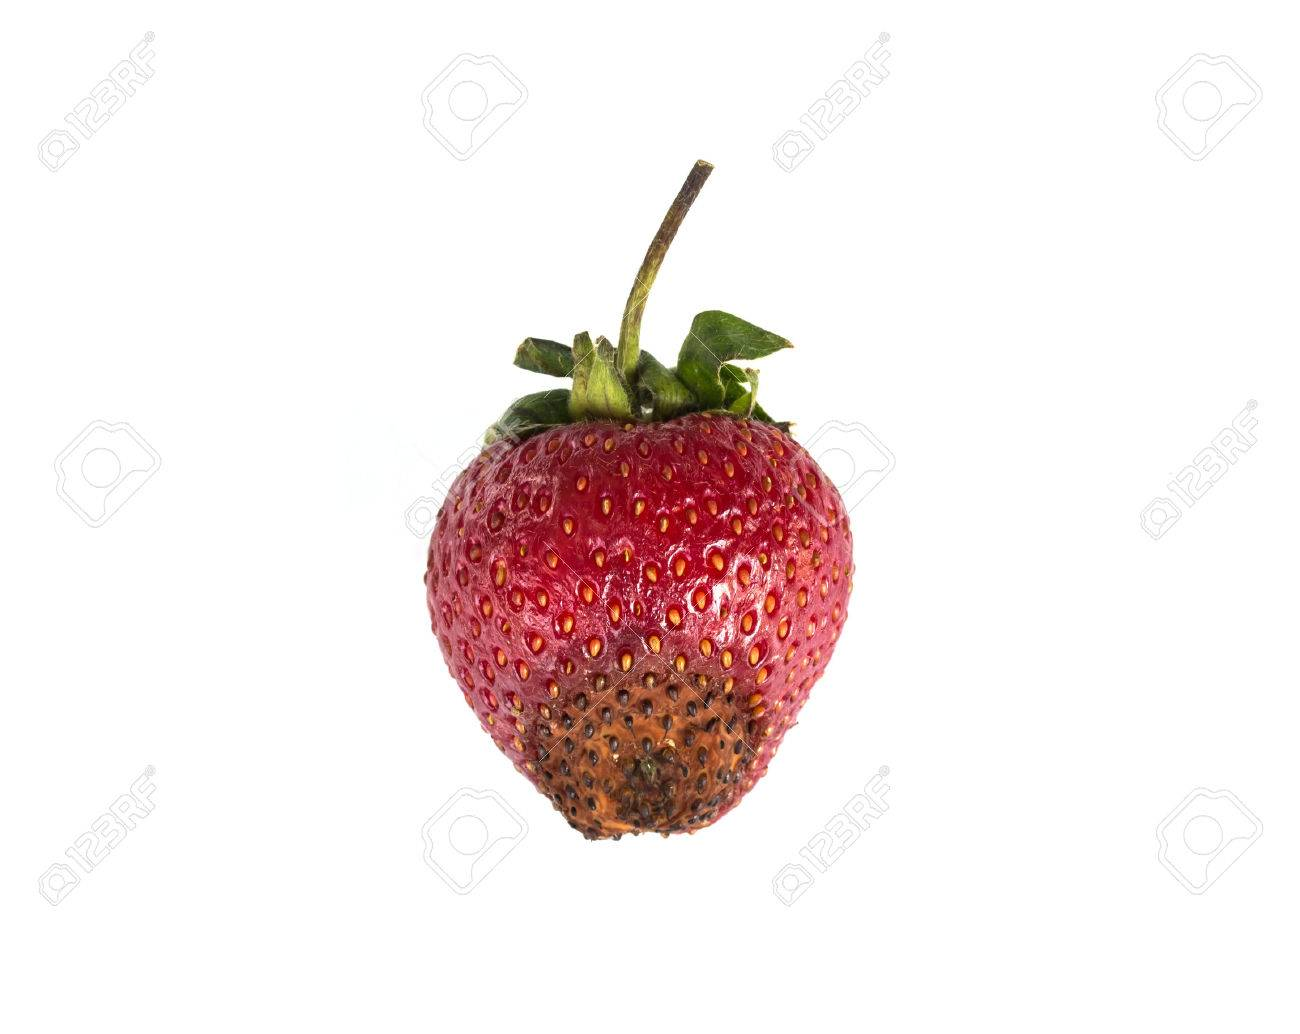damaged_strawberry: (419, 390, 840, 850)
